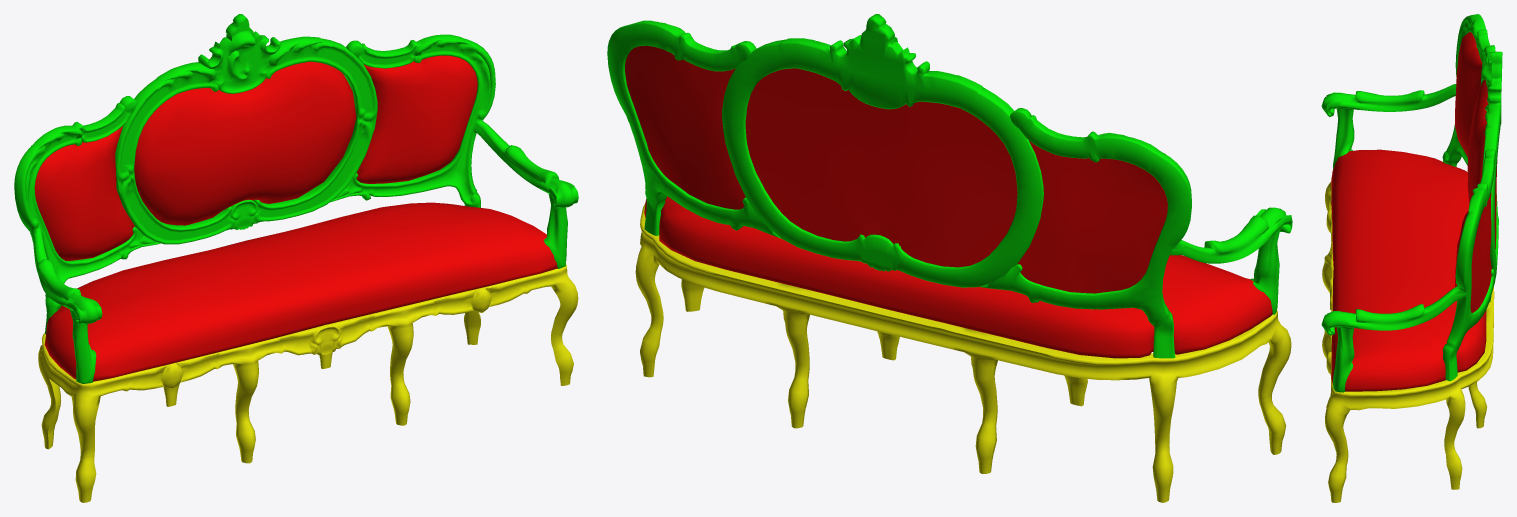
File: LPSofa.fbx
3 renders of one model, left to right at view 1: azimuth 30°, elevation 25°; view 2: azimuth 150°, elevation 25°; view 3: azimuth 270°, elevation 25°, orthographic. The views are drawn at different scales.
Visible parts, largest first — view 1: s_padding02, s_padding01, s_padding00, s_top00, s_base, s_top01; view 2: s_padding01, s_padding02, s_padding00, s_base, s_top01, s_top00; view 3: s_padding02, s_top00, s_base, s_padding00, s_top01, s_padding01.
Boxes of the visible parts, <box> form: s_padding02: <box>44,202,557,381</box>; s_padding01: <box>134,61,356,225</box>; s_padding00: <box>34,55,477,260</box>; s_top00: <box>14,34,578,383</box>; s_base: <box>38,264,578,502</box>; s_top01: <box>115,14,377,244</box>; s_padding01: <box>745,68,1017,267</box>; s_padding02: <box>644,196,1272,358</box>; s_padding00: <box>625,45,1167,293</box>; s_base: <box>635,202,1291,502</box>; s_top01: <box>722,14,1043,287</box>; s_top00: <box>607,20,1292,358</box>; s_padding02: <box>1331,149,1486,391</box>; s_top00: <box>1321,14,1495,392</box>; s_base: <box>1322,176,1494,502</box>; s_padding00: <box>1455,32,1491,313</box>; s_top01: <box>1480,51,1502,277</box>; s_padding01: <box>1467,79,1497,248</box>.
Bounding box in the file's own units: 199 × 138 × 66.25.
